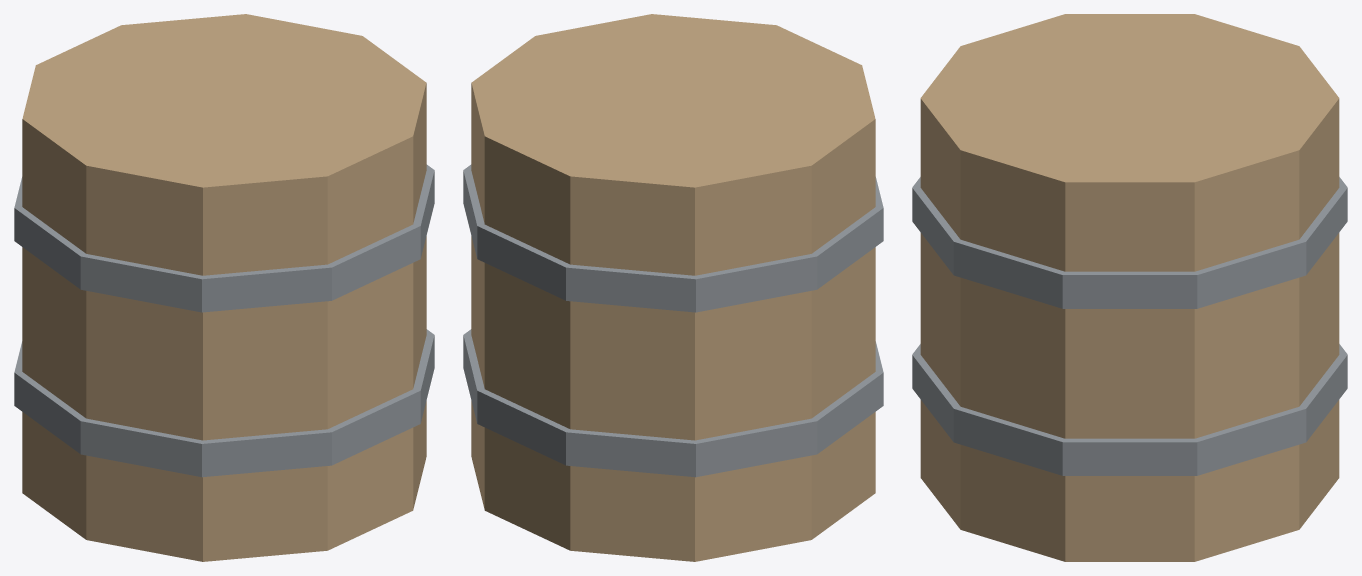
Rendered from barrel.glb.
3 views of the same model, side by side, from view 1: azimuth 30°, elevation 25°; view 2: azimuth 150°, elevation 25°; view 3: azimuth 270°, elevation 25° (orthographic).
Visible parts, largest first — view 1: barrel, barrel_band_lower, barrel_band_upper; view 2: barrel, barrel_band_lower, barrel_band_upper; view 3: barrel, barrel_band_upper, barrel_band_lower.
Boxes of the visible parts, x1=… form: barrel: x1=22, y1=14, x2=426, y2=561; barrel_band_lower: x1=14, y1=329, x2=434, y2=477; barrel_band_upper: x1=14, y1=164, x2=434, y2=312; barrel: x1=471, y1=14, x2=875, y2=561; barrel_band_lower: x1=463, y1=329, x2=883, y2=477; barrel_band_upper: x1=463, y1=164, x2=883, y2=312; barrel: x1=920, y1=14, x2=1339, y2=561; barrel_band_upper: x1=912, y1=177, x2=1347, y2=308; barrel_band_lower: x1=912, y1=344, x2=1347, y2=475.
Size of the model in its own units: 0.8902 by 0.9 by 0.936.
